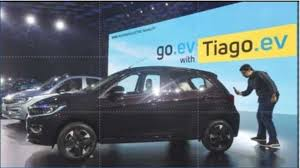Tiago: (24, 63, 243, 166)
